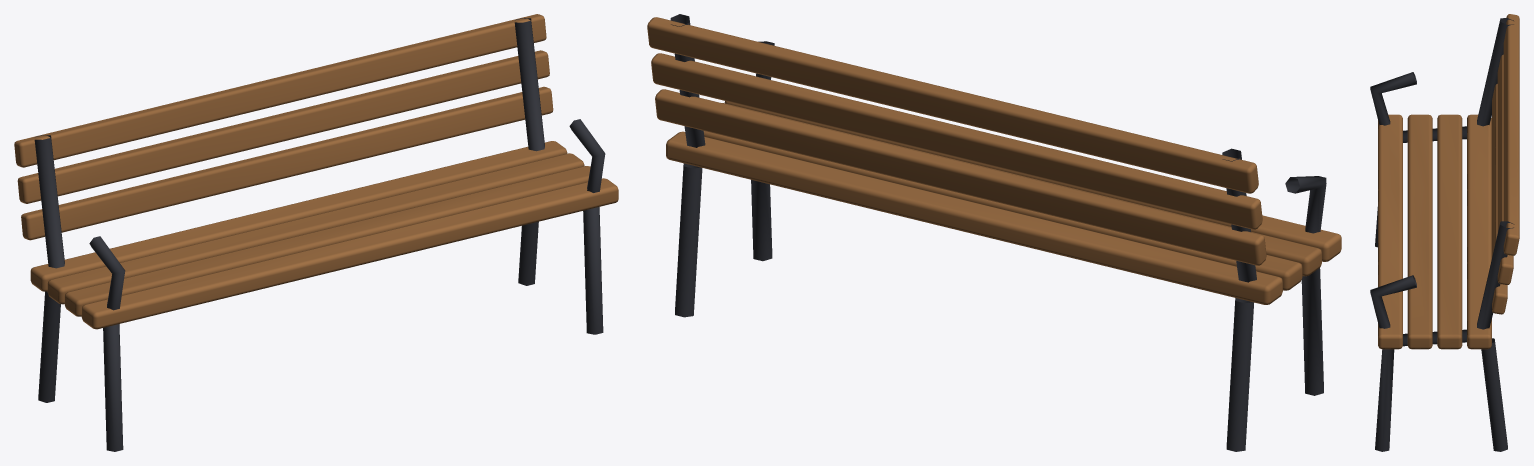
Rendered from furn_dp_bench.glb.
3 renders of one model, left to right at view 1: azimuth 30°, elevation 25°; view 2: azimuth 150°, elevation 25°; view 3: azimuth 270°, elevation 25°, orthographic. The views are drawn at different scales.
Parts seen in each view (by area): view 1: furn_dp_bench_main; view 2: furn_dp_bench_main; view 3: furn_dp_bench_main.
Part boxes in pixels (bbox=[...]): furn_dp_bench_main: bbox=[14, 14, 618, 451]; furn_dp_bench_main: bbox=[647, 14, 1341, 451]; furn_dp_bench_main: bbox=[1370, 14, 1519, 451].
Size of the model in its own units: 1.6 by 0.757 by 0.453.
